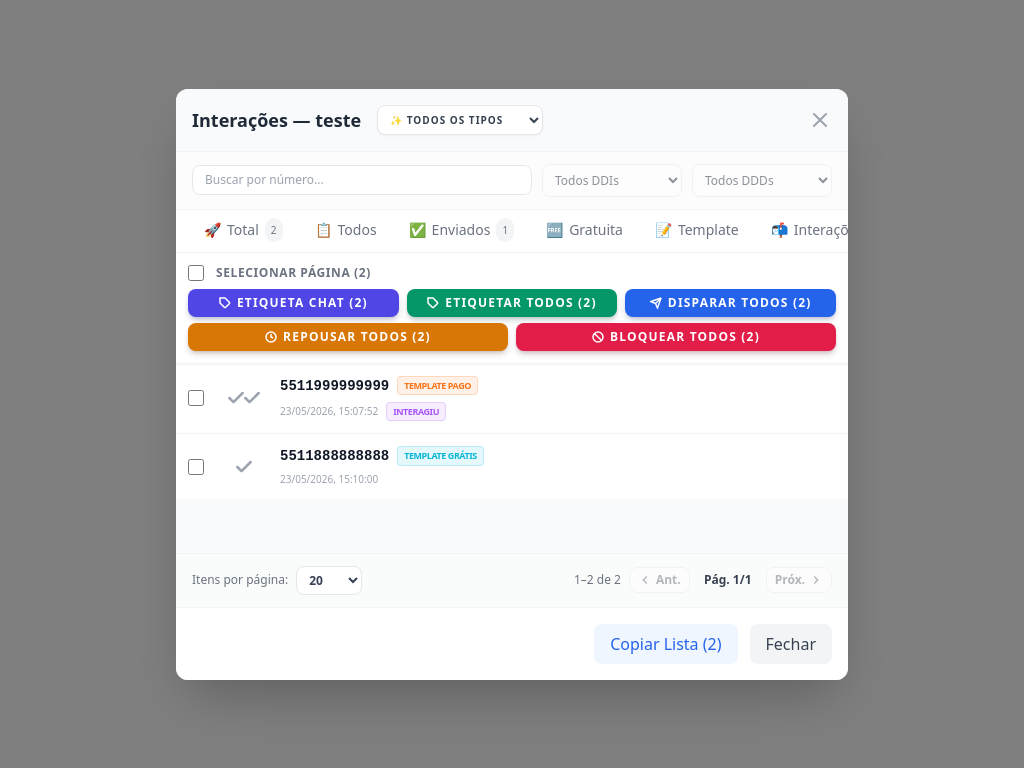
Test: ContactsModal › exibe o botão Bloquear apenas na listagem de falhas
Expected: the button "Bloquear Todos (2)" is shown, [516,322,836,350]
Click the checkbox next to "5511999999999".
click(196, 398)  # box [188,390,204,406]
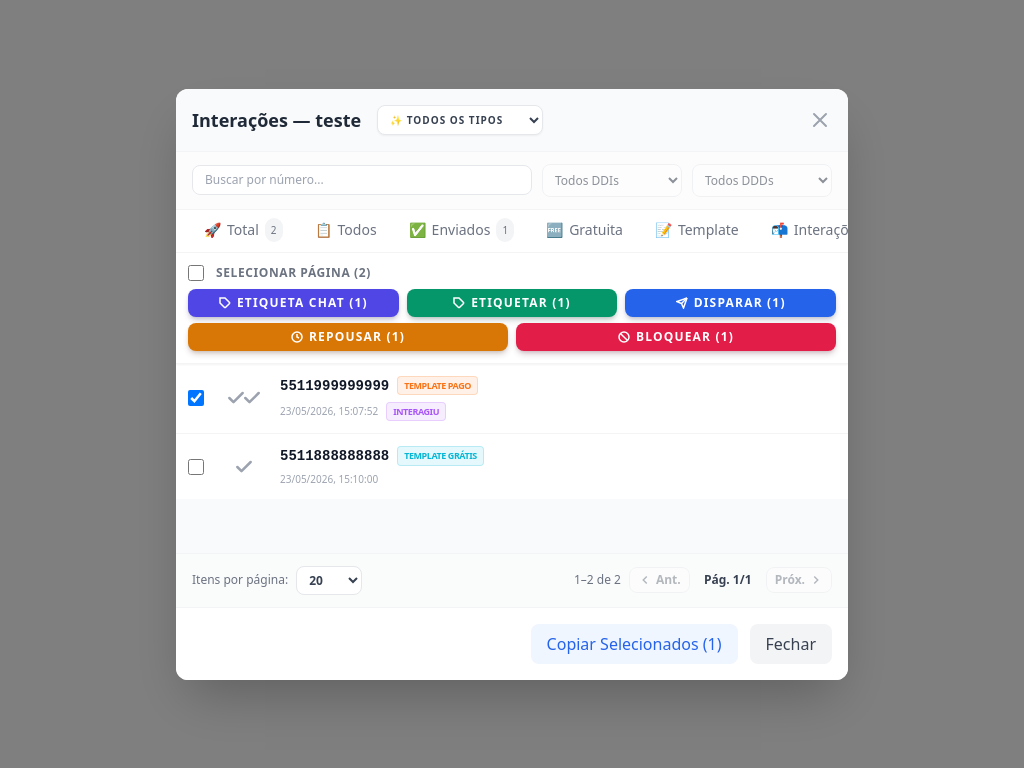
Now the button "Bloquear (1)" is shown, box [516,322,836,350]
